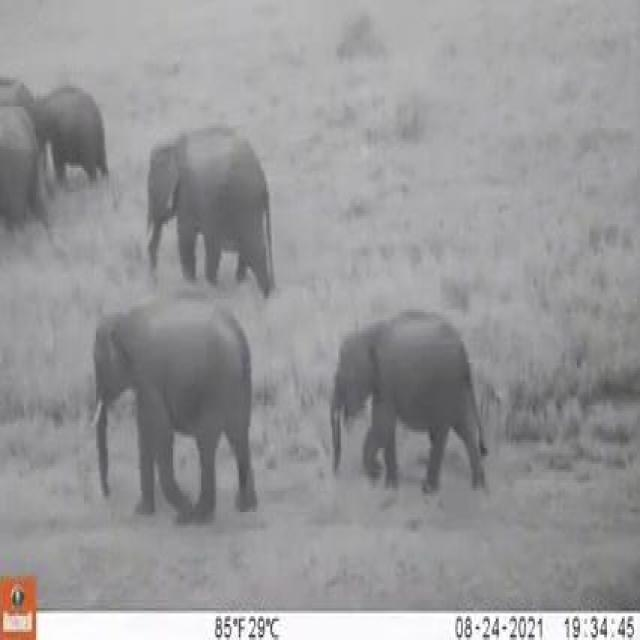Elephant: (87, 296, 256, 504), (329, 317, 483, 486), (144, 125, 275, 266), (36, 85, 109, 178)
